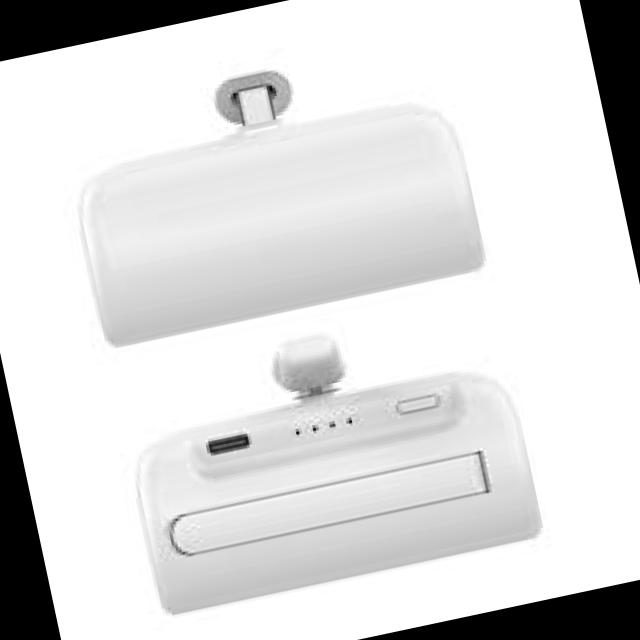portable-charger: (42, 21, 500, 365), (108, 290, 550, 625)
